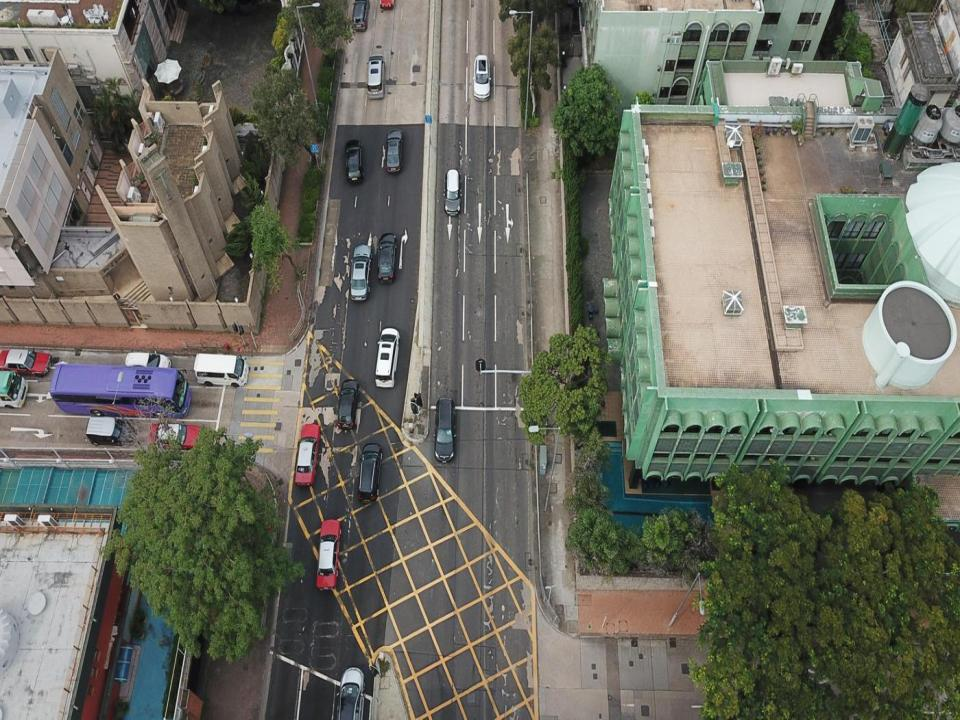bus: (48, 363, 190, 422)
car: (316, 518, 342, 591), (294, 425, 320, 483), (0, 349, 52, 377), (149, 421, 199, 449), (349, 244, 372, 302), (87, 416, 131, 445), (125, 351, 173, 377), (338, 380, 358, 430), (376, 232, 396, 282), (444, 168, 462, 215), (344, 140, 363, 184), (473, 54, 491, 100), (386, 127, 402, 172), (379, 0, 395, 11)
van: (192, 354, 248, 388), (336, 666, 365, 719), (374, 328, 399, 388), (434, 397, 456, 464), (359, 443, 380, 499), (0, 368, 26, 410), (368, 55, 386, 99), (352, 0, 369, 32)
